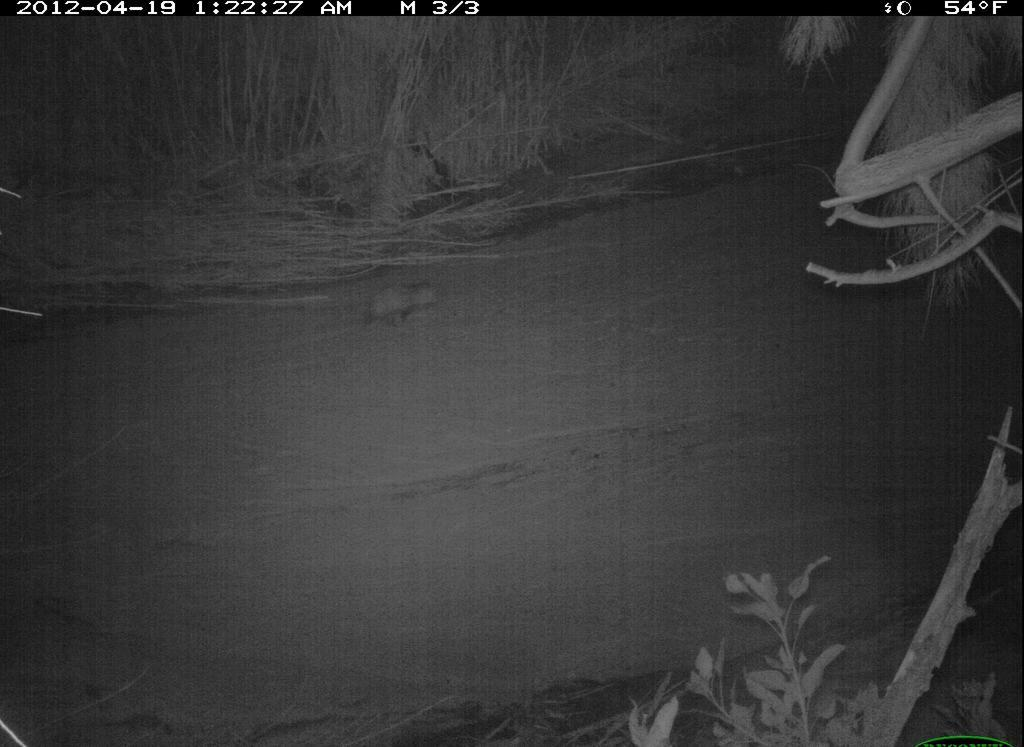opossum: (350, 274, 451, 344)
